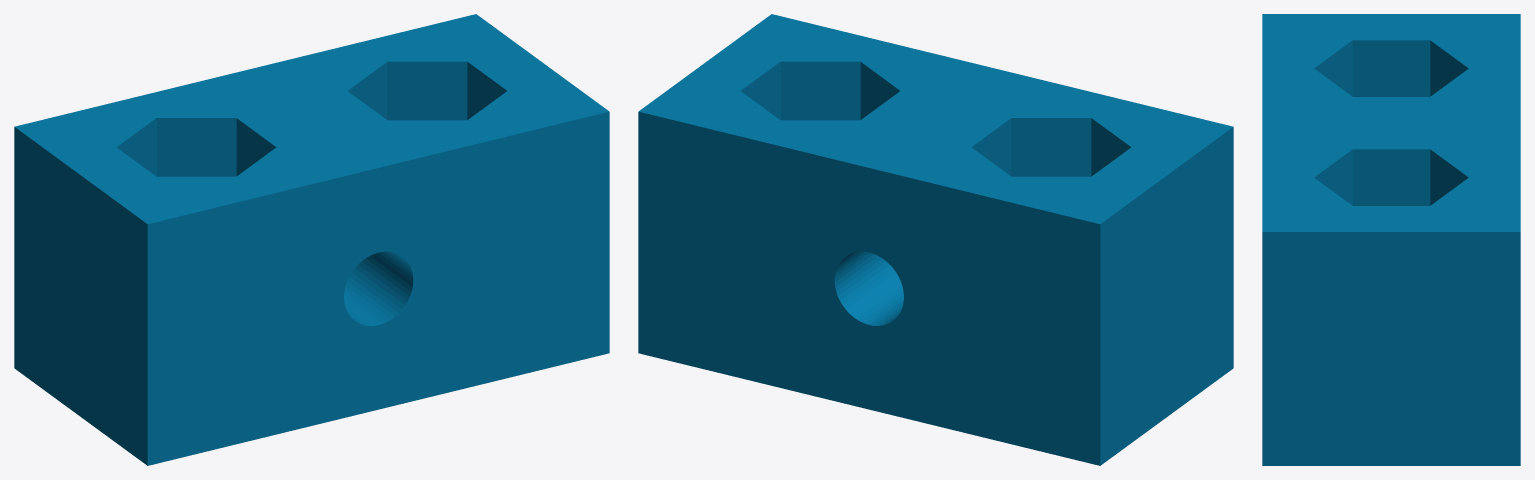
Rendered from I_Piece_2_hole_1side_hole.glb.
3 renders of one model, left to right at view 1: azimuth 30°, elevation 25°; view 2: azimuth 150°, elevation 25°; view 3: azimuth 270°, elevation 25°, orthographic. The views are drawn at different scales.
Visible parts, largest first — view 1: main.001; view 2: main.001; view 3: main.001.
Boxes of the visible parts, x1,y1,x2,y2 form: main.001: [14, 14, 609, 465]; main.001: [638, 14, 1233, 465]; main.001: [1262, 14, 1520, 465].
Size of the model in its own units: 0.02 by 0.01 by 0.01.
